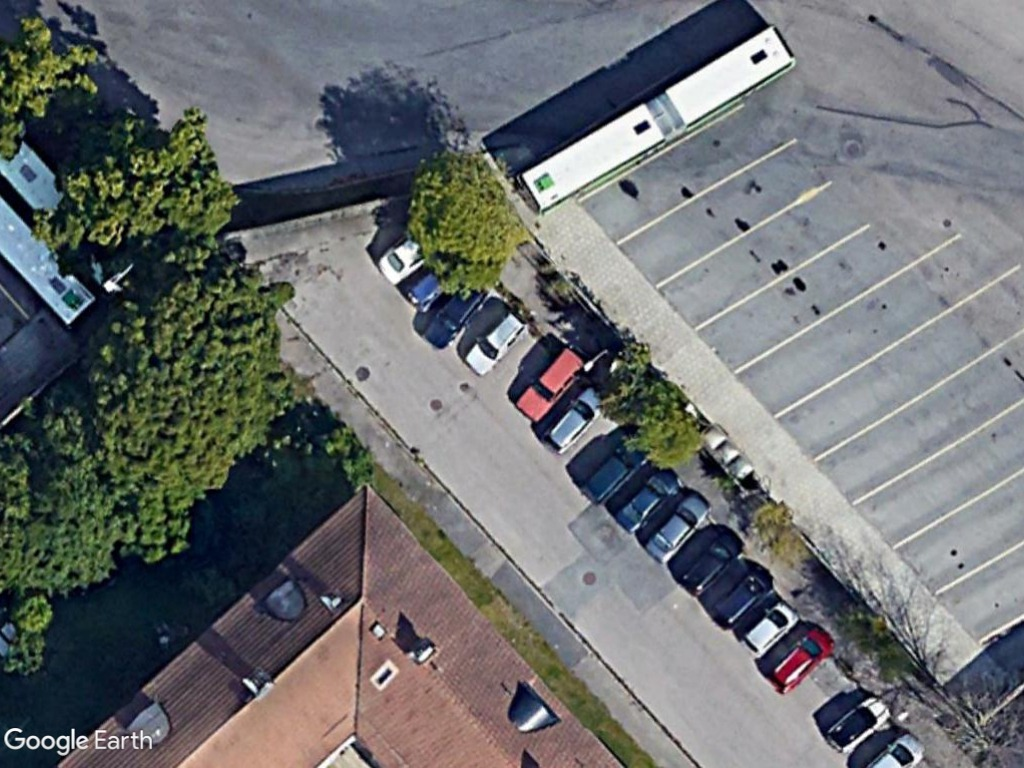bus: (510, 23, 801, 221)
car: (512, 344, 586, 424), (762, 621, 838, 697), (540, 381, 612, 459), (677, 525, 749, 599), (611, 464, 682, 539), (644, 490, 713, 566), (461, 305, 529, 379), (707, 562, 778, 629), (823, 694, 894, 757), (739, 597, 802, 659)
